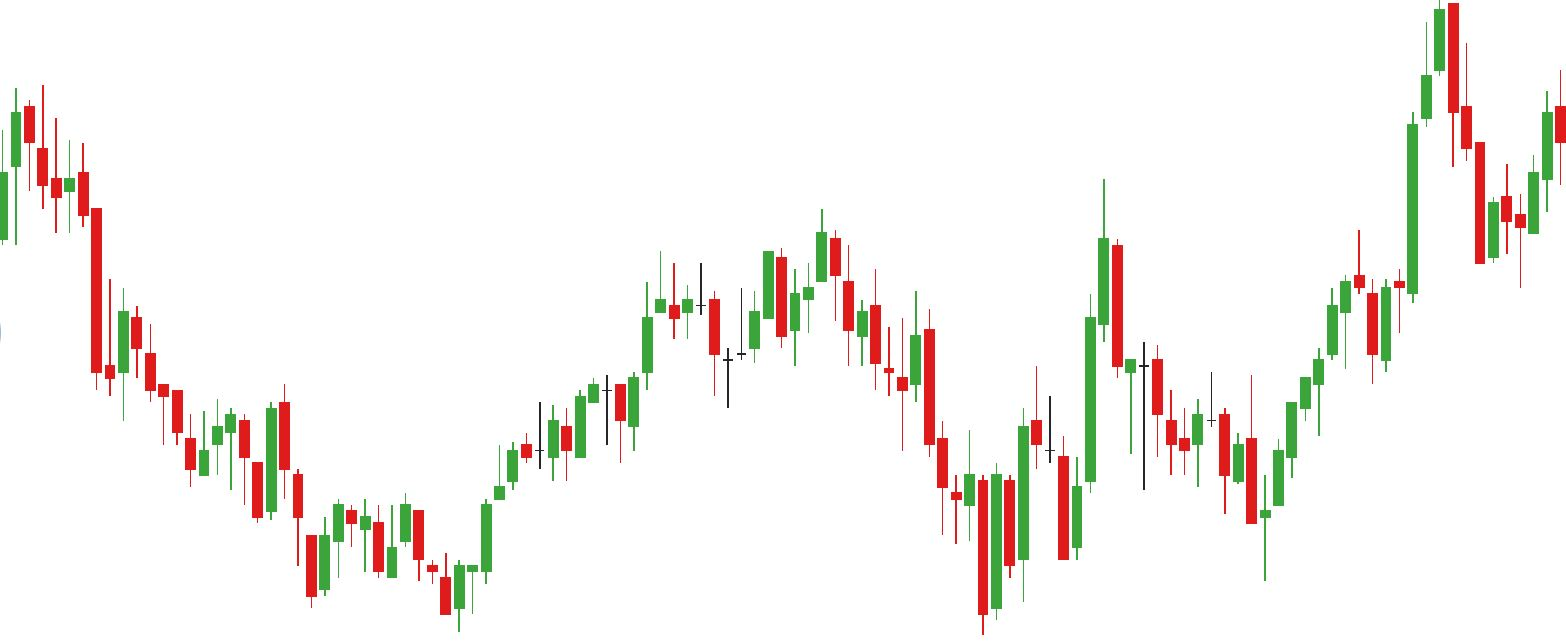buy: (298, 521, 467, 639)
sell: (908, 178, 1125, 428), (694, 206, 843, 348)
